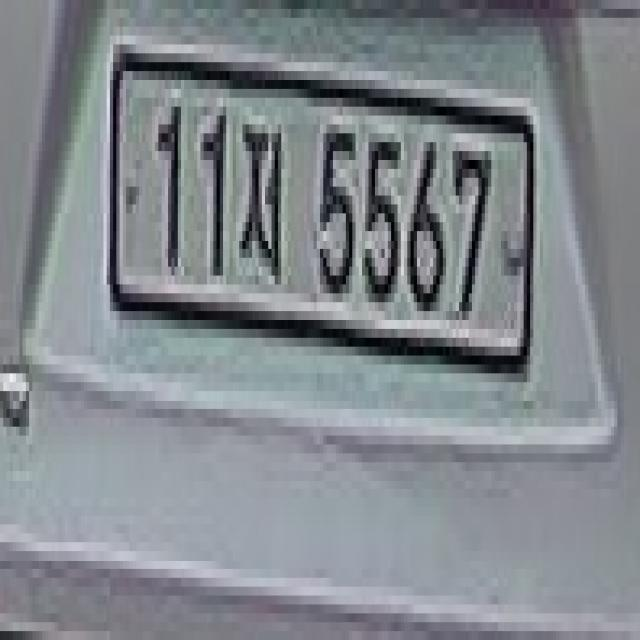1: (145, 89, 194, 284), (191, 89, 236, 293)
5: (310, 116, 362, 302), (359, 125, 407, 311)
6: (404, 133, 449, 320)
7: (449, 142, 498, 329)
jeo: (236, 107, 288, 293)
license_plate: (100, 36, 537, 391)
